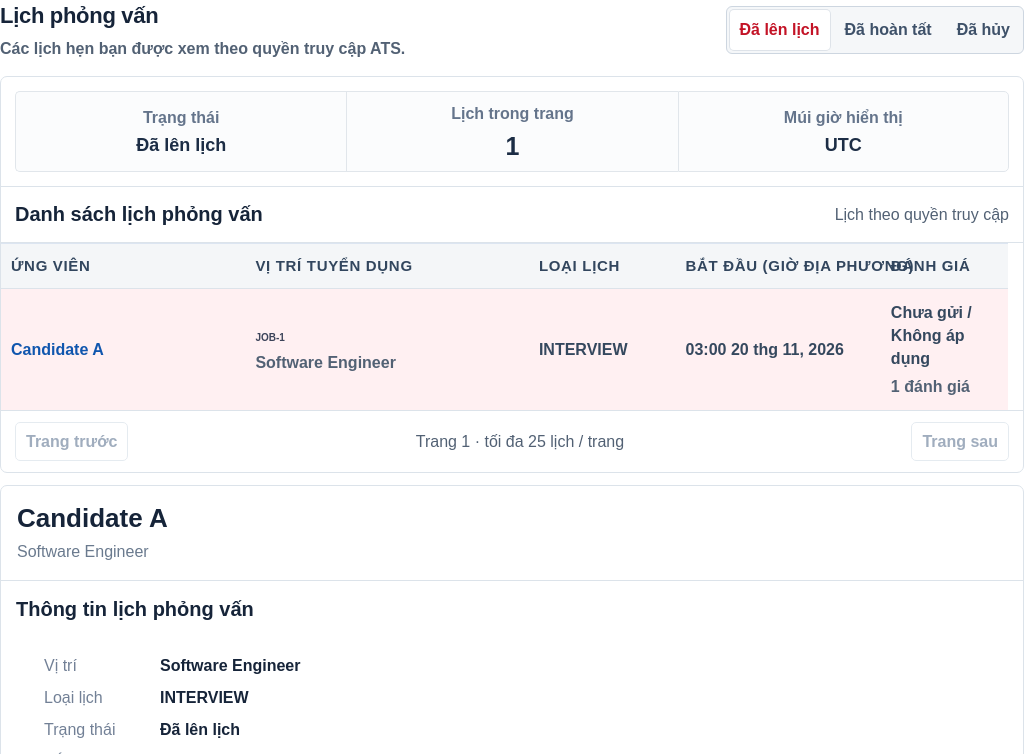
Test case: shows failed worklist fetch without leaking old selected interview
The width and height of the screenshot is (1024, 754).
Click the button "Đã hoàn tất".
click(888, 30)  # box [834,10,942,50]
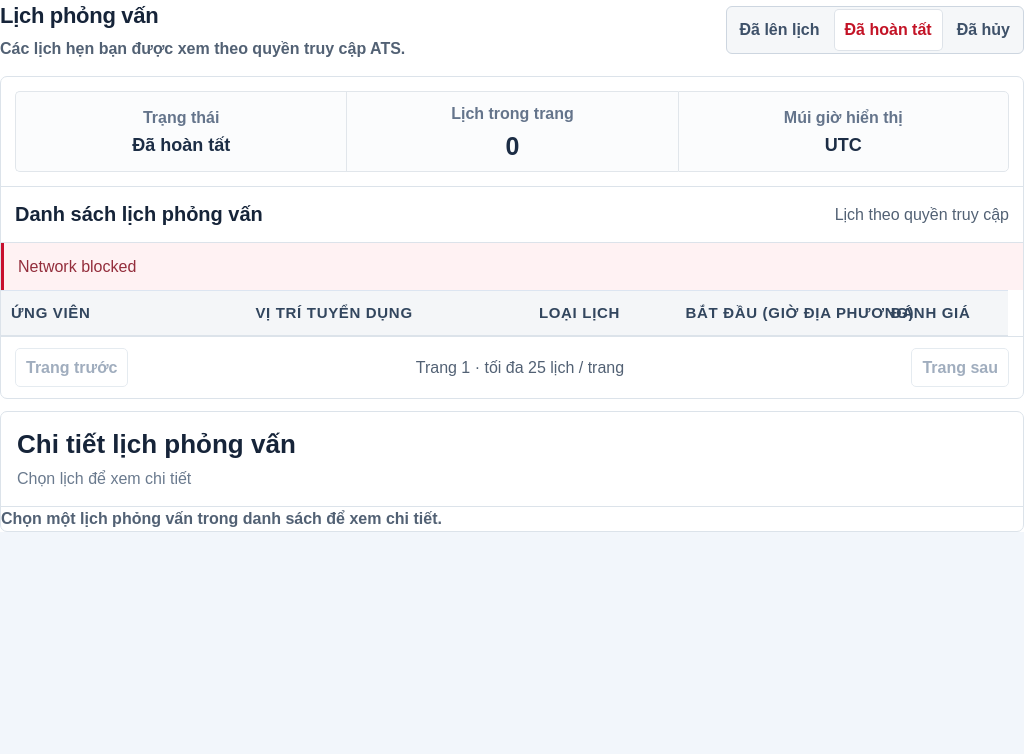
Now the message reads "Network blocked", box [18,258,136,275]
